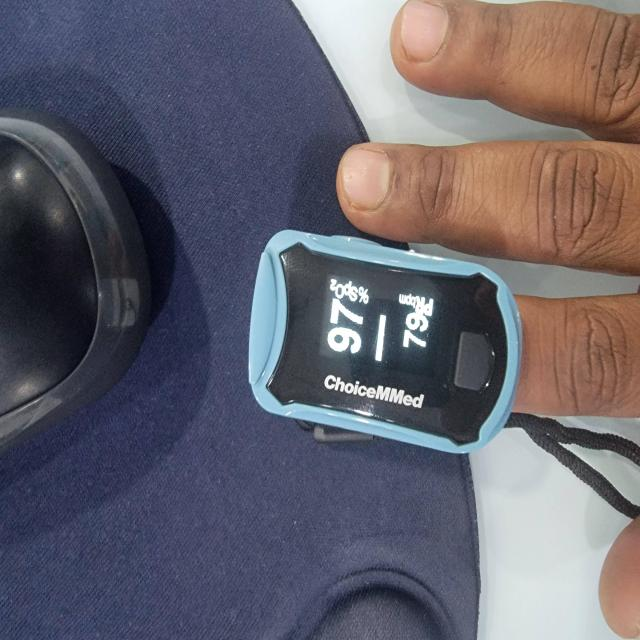spo2: (247, 230, 523, 458)
